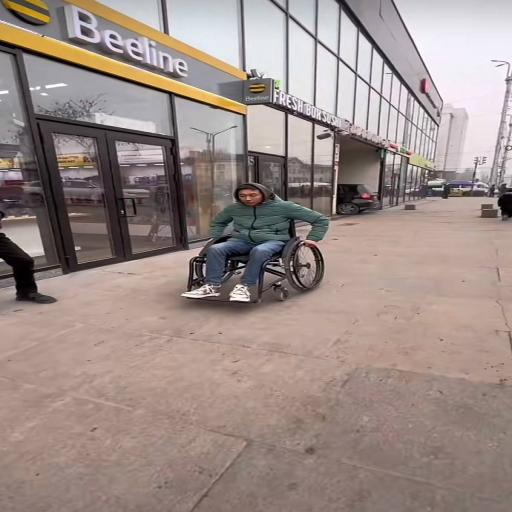road: (187, 225, 325, 302)
